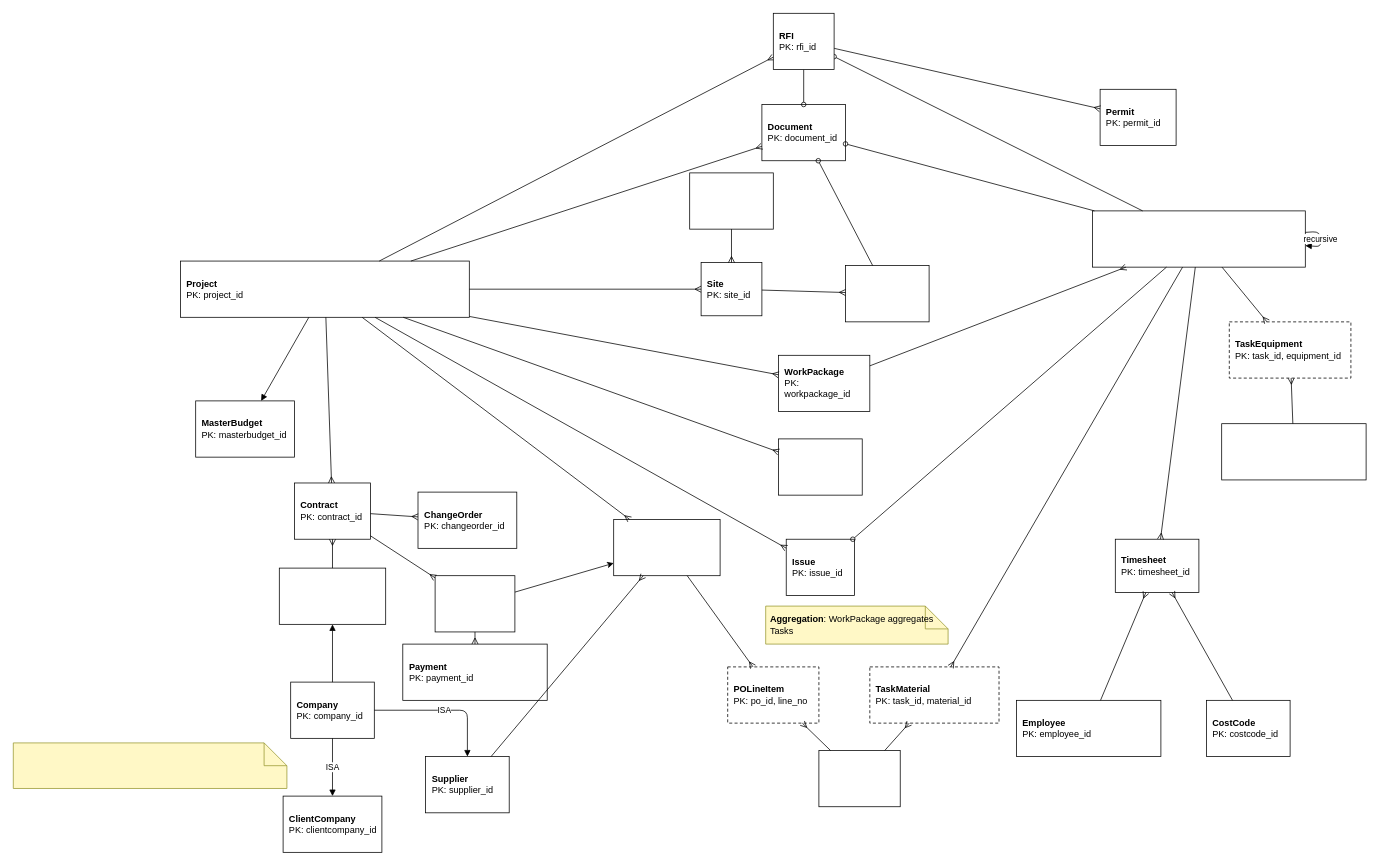
Image size: 1379x866. Some labels were removed from this diagram. The shapes that lost their labels are listed below. From the top down, each one's centre as x and y in pixels, then its label:
At [731,200]: "Address PK: address_id".
At [1198,238]: "Task PK: task_id".
At [887,293]: "Inspection PK: inspection_id".
At [820,466]: "Milestone PK: milestone_id".
At [1293,451]: "Equipment PK: equipment_id".
At [666,547]: "PurchaseOrder PK: purchaseorder_id".
At [332,595]: "Subcontractor PK: subcontractor_id".
At [474,603]: "Invoice PK: invoice_id".
At [150,765]: "ISA : Company → ClientCompany, Subcontractor, Supplier".
At [859,778]: "Material PK: material_id".
